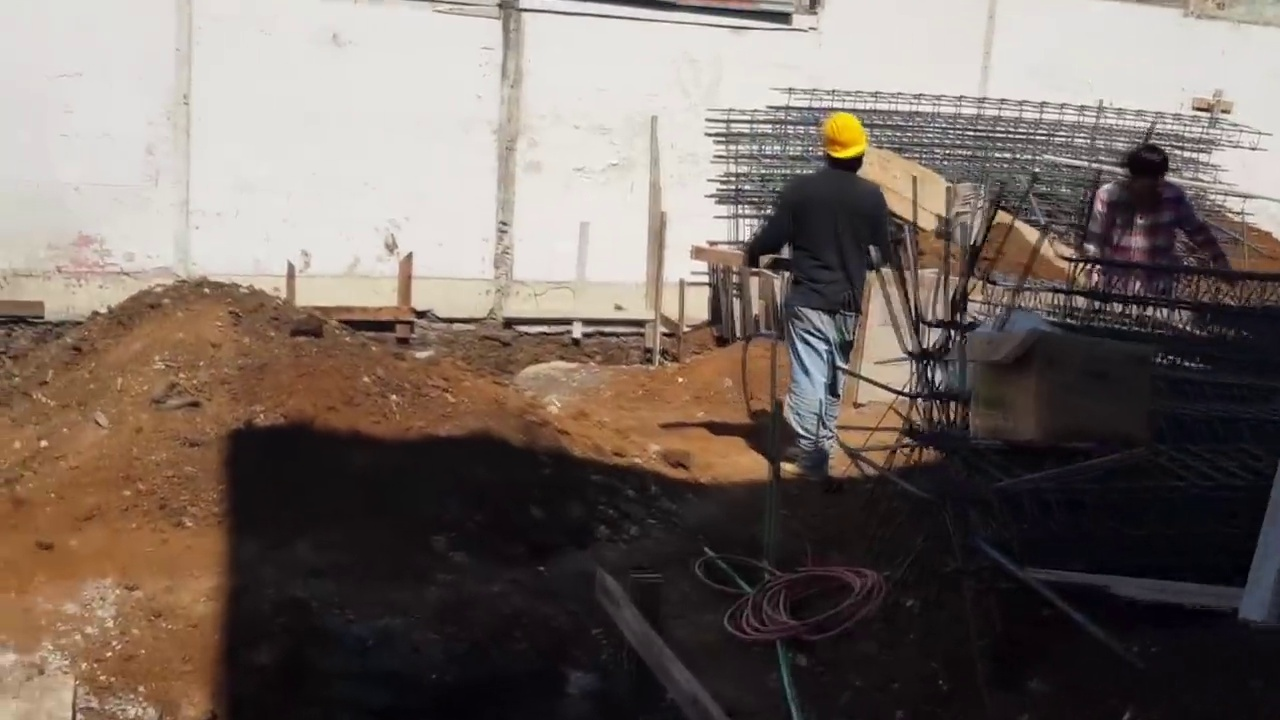helmet: (822, 110, 873, 154)
helmet-off: (1127, 142, 1173, 197)
helmet-on: (816, 105, 876, 179)
person: (749, 88, 908, 491), (1089, 139, 1233, 290)
